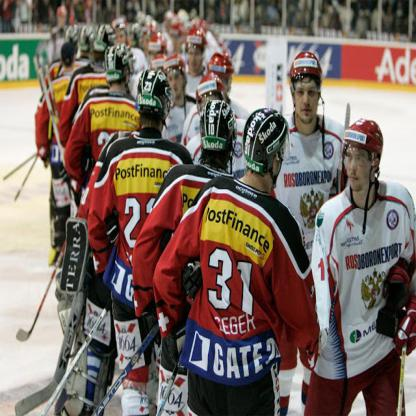face: (295, 79, 320, 125), (347, 145, 371, 192), (168, 72, 183, 98), (189, 43, 203, 69), (140, 36, 150, 57), (120, 31, 128, 51)
